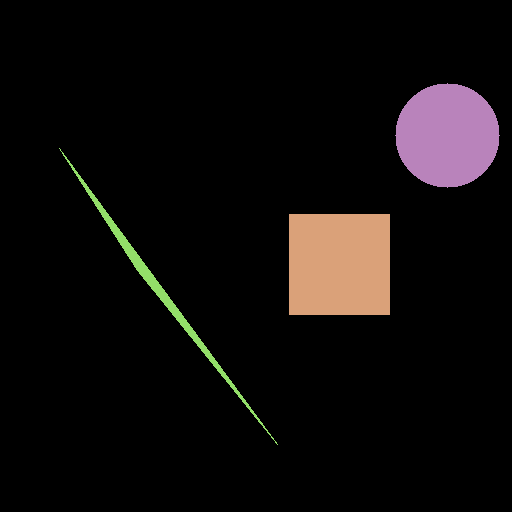circle: (395, 83, 499, 187)
square: (289, 214, 389, 314)
